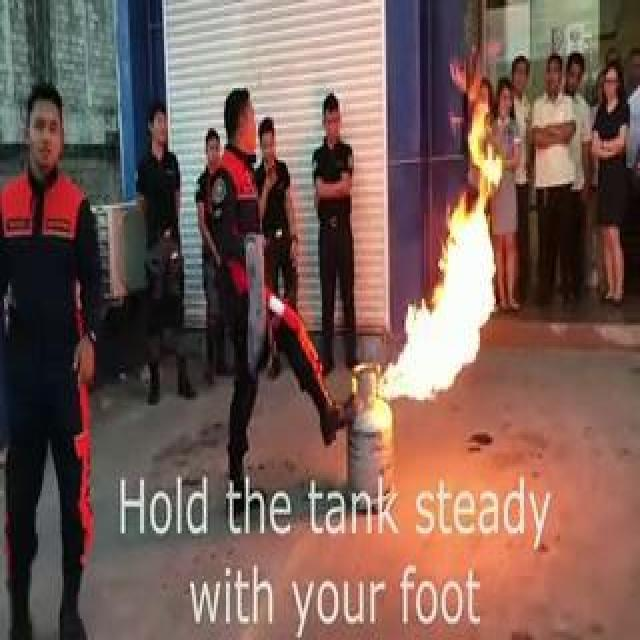Smoke: (370, 90, 504, 410)
